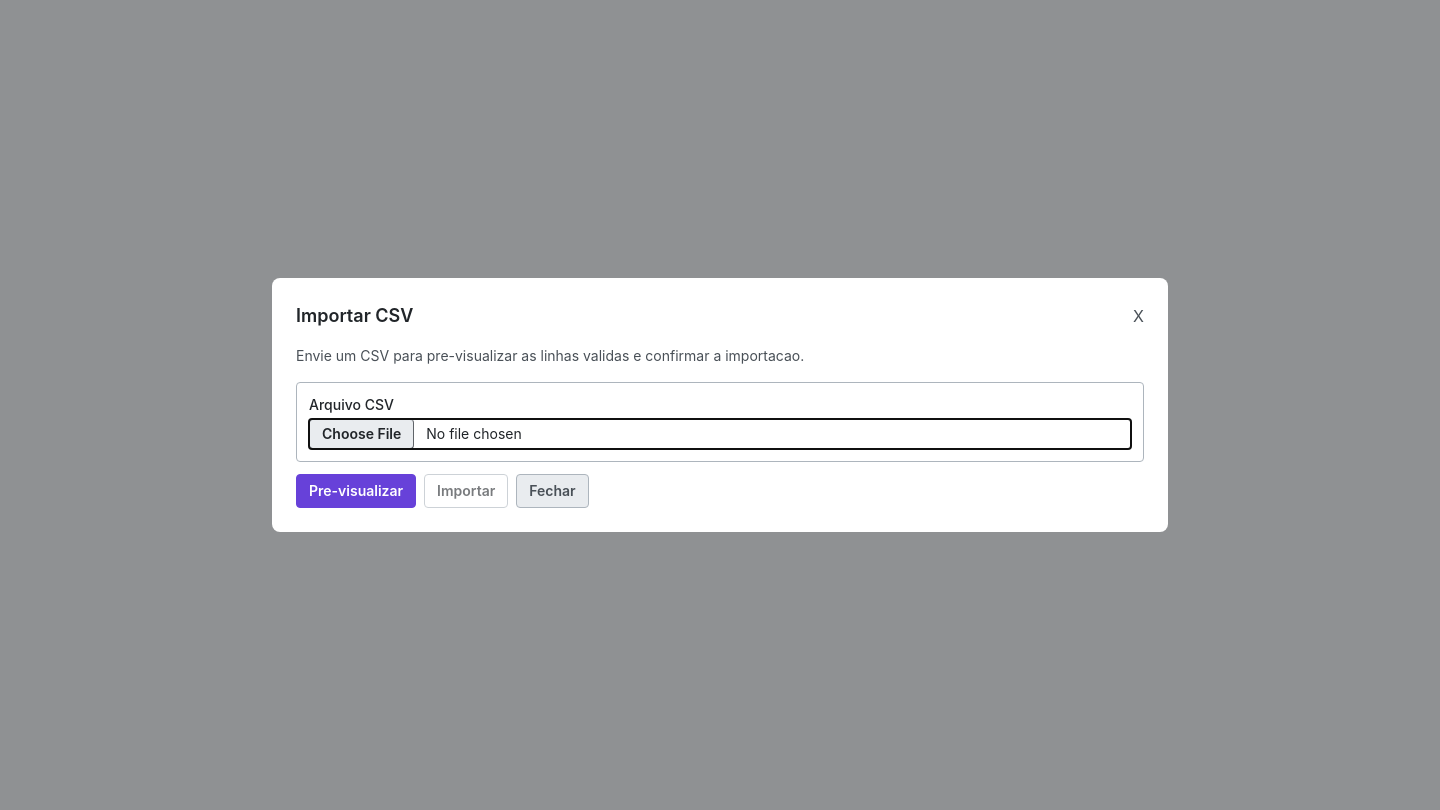
ImportCsvModal › shows validation message when preview is requested without file
This screenshot has width=1440, height=810.
Click the button "Pre-visualizar": (356, 491) [296,474,416,508]
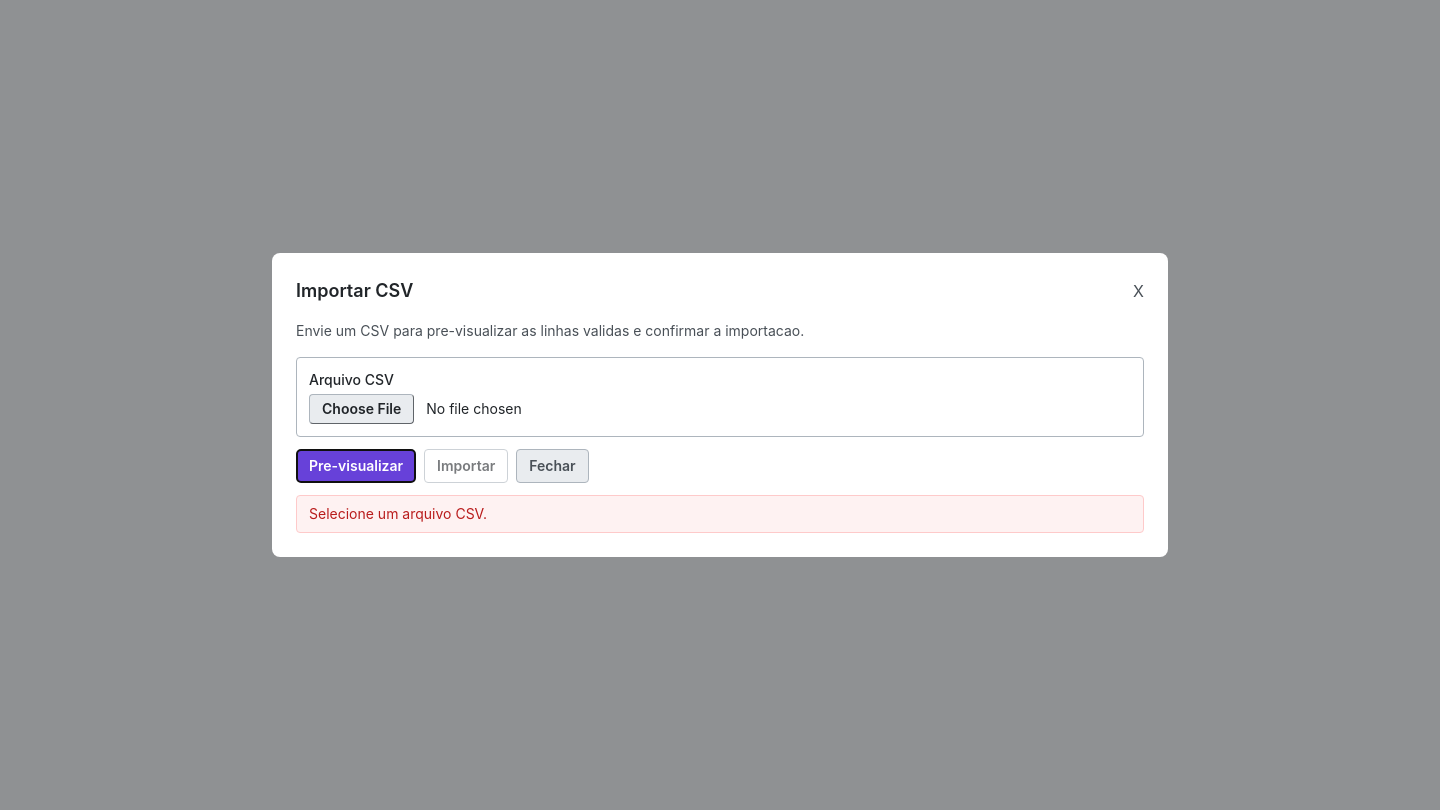
Expected: the text "Selecione um arquivo CSV." is shown, [296,495,1144,533]
